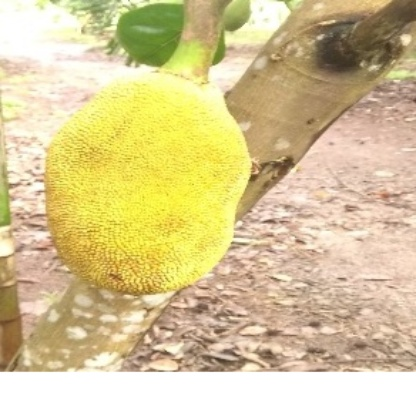mit: (64, 62, 252, 293)
